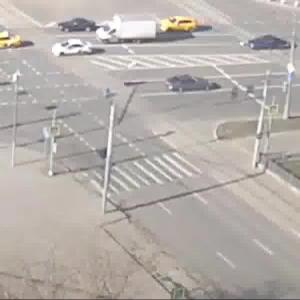car: (165, 72, 234, 98), (96, 20, 160, 48), (53, 15, 99, 41), (245, 32, 295, 54), (158, 17, 209, 38), (50, 42, 103, 59), (1, 31, 24, 54)
